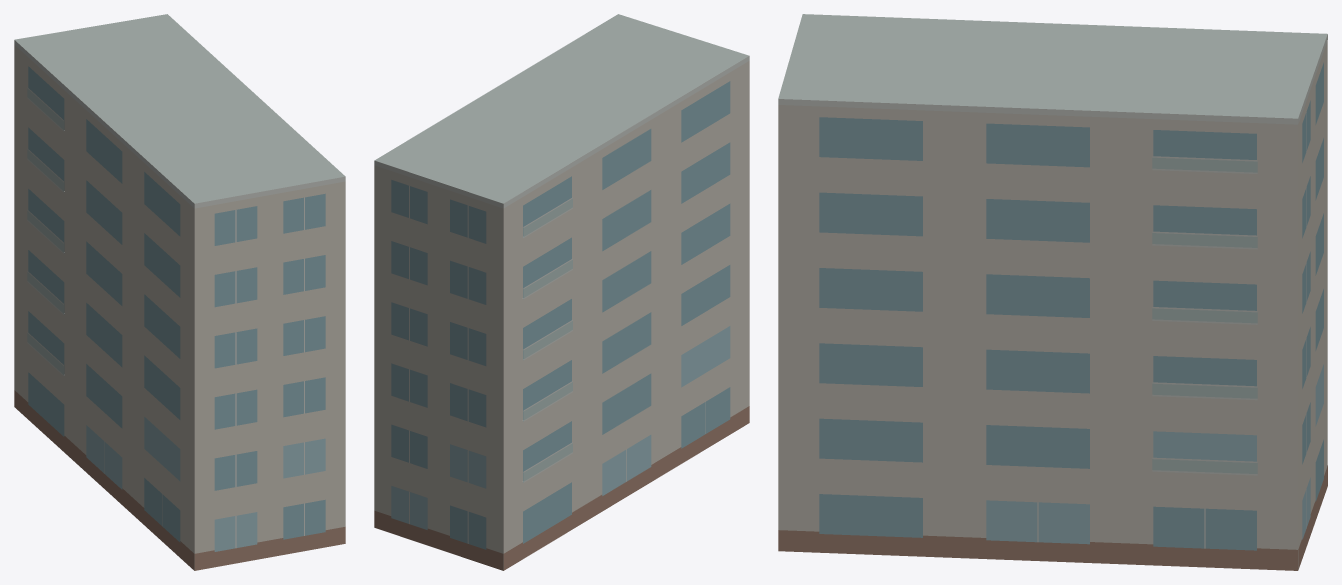
The model's file is survey-upis-32878945.glb.
The picture shows the model from 3 angles, left to right: view 1: azimuth 30°, elevation 25°; view 2: azimuth 150°, elevation 25°; view 3: azimuth 270°, elevation 25°; orthographic projection. The views are drawn at different scales.
Visible parts, largest first — view 1: survey-upis-32878945.tmp; view 2: survey-upis-32878945.tmp; view 3: survey-upis-32878945.tmp.
Part boxes in pixels (x1,y1,x2,y2): survey-upis-32878945.tmp: [14, 14, 345, 570]; survey-upis-32878945.tmp: [374, 14, 749, 570]; survey-upis-32878945.tmp: [778, 14, 1327, 570].
Size of the model in its own units: 9.14 by 18.4 by 20.28.
